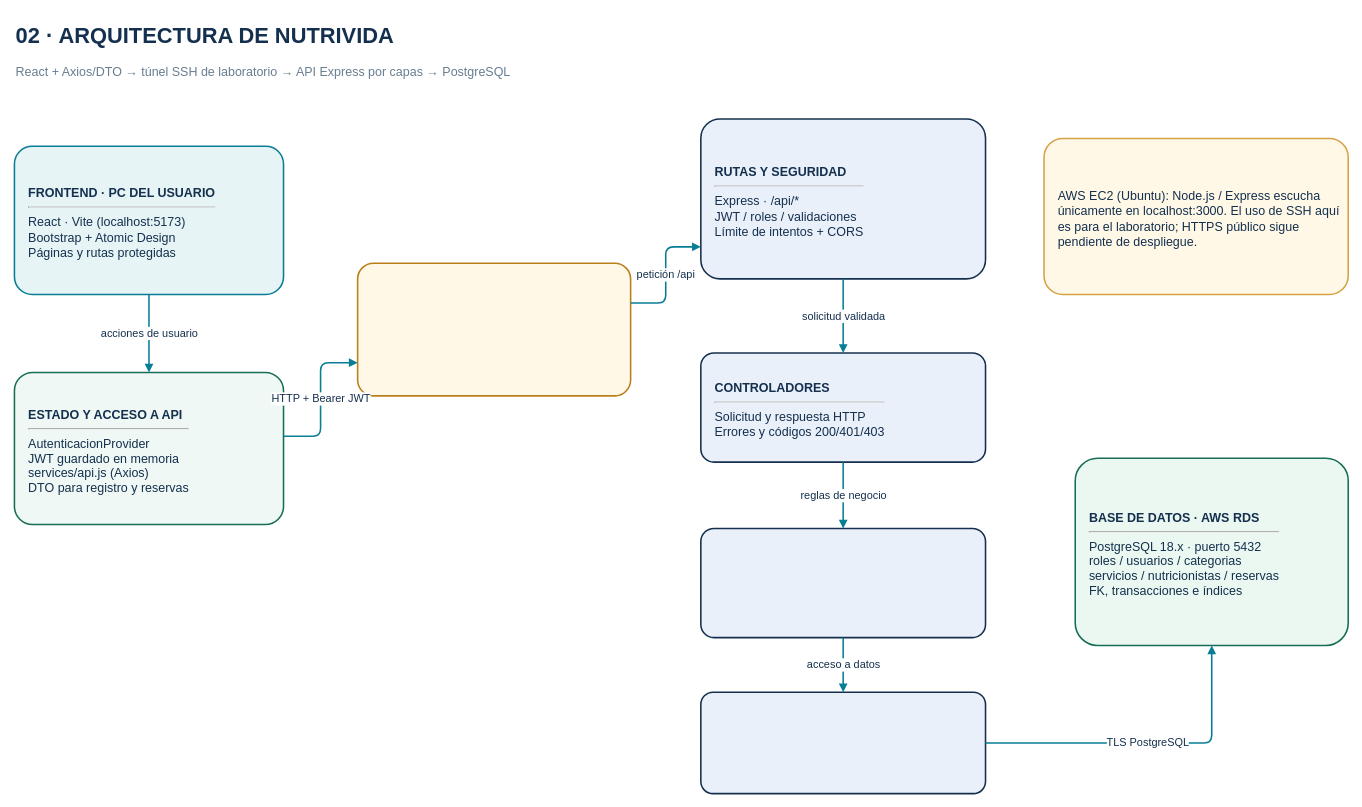
Image size: 1362x807. Some labels were removed from this diagram. Each missing label, with the centre of its shape:
REPOSITORIOS Consultas SQL parametrizadas pg Pool / TLS verificado: the point at 843,742
SERVICIOS Autenticación, reservas, horarios y reglas de negocio: the point at 843,582
TÚNEL SSH PC: 127.0.0.1:3001 → EC2: 127.0.0.1:3000 Cifrado sobre SSH (puerto 22): the point at 493,329
